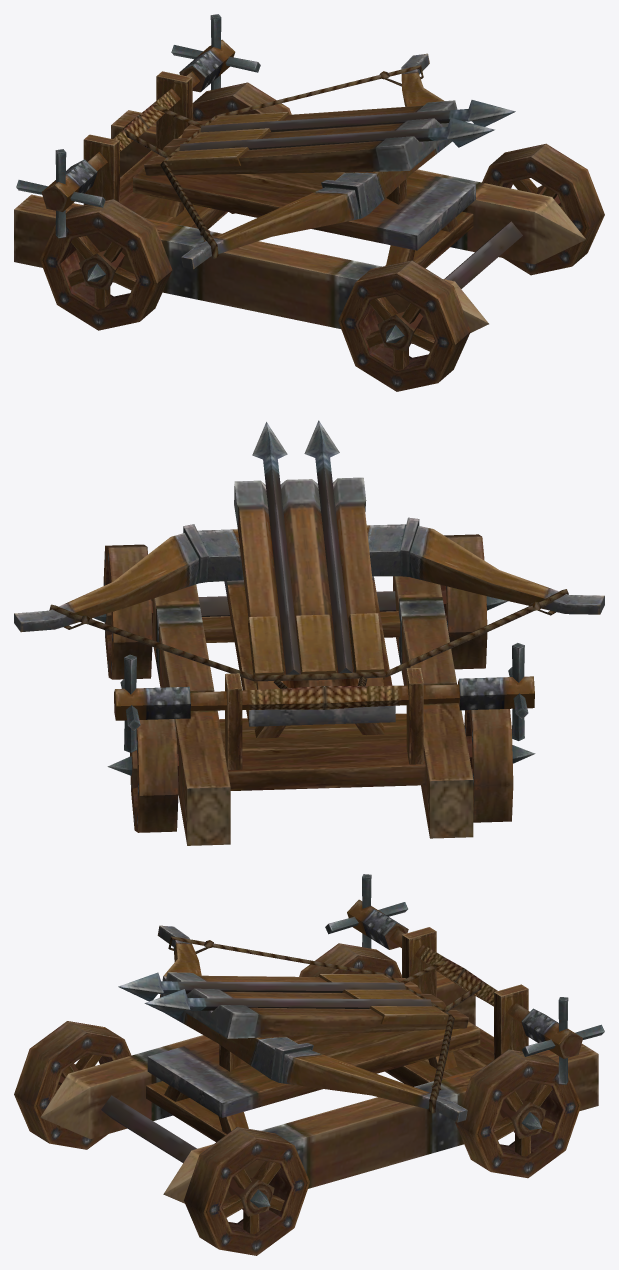
3 views of the same model, one above another, from view 1: azimuth 30°, elevation 25°; view 2: azimuth 150°, elevation 25°; view 3: azimuth 270°, elevation 25° (orthographic). The views are drawn at different scales.
Parts seen in each view (by area): view 1: pasted__Combined_Mesh_root_scene_2_Mesh_polySurface4484; view 2: pasted__Combined_Mesh_root_scene_2_Mesh_polySurface4484; view 3: pasted__Combined_Mesh_root_scene_2_Mesh_polySurface4484.
Part boxes in pixels (x1,y1,x2,y2): pasted__Combined_Mesh_root_scene_2_Mesh_polySurface4484: (14, 14, 604, 391); pasted__Combined_Mesh_root_scene_2_Mesh_polySurface4484: (14, 420, 604, 845); pasted__Combined_Mesh_root_scene_2_Mesh_polySurface4484: (14, 874, 604, 1255).
Bounding box in the file's own units: 13.17 × 5.57 × 13.97.
